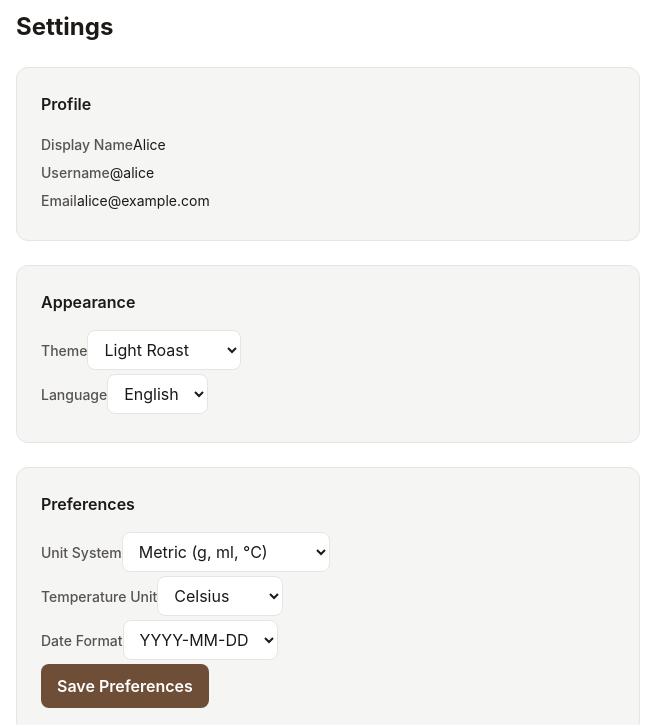
Test case: SettingsPage › Preferences save (messageType regression) › shows success banner with green styling
What coordinates should you click on to do the following:
click the button "Save Preferences"
I would click on:
 (125, 686)
Its box is [41, 664, 209, 708].
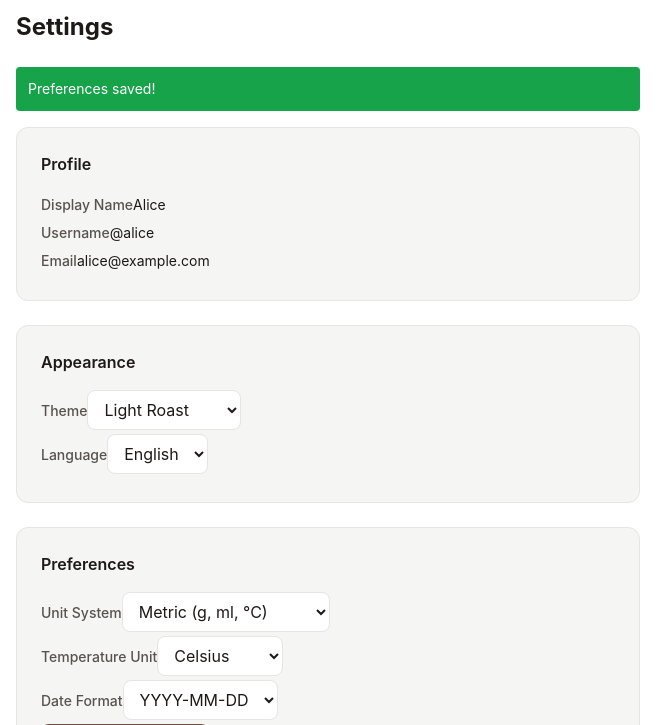
Now the text "Preferences saved!" is shown, box [16, 67, 640, 111]
